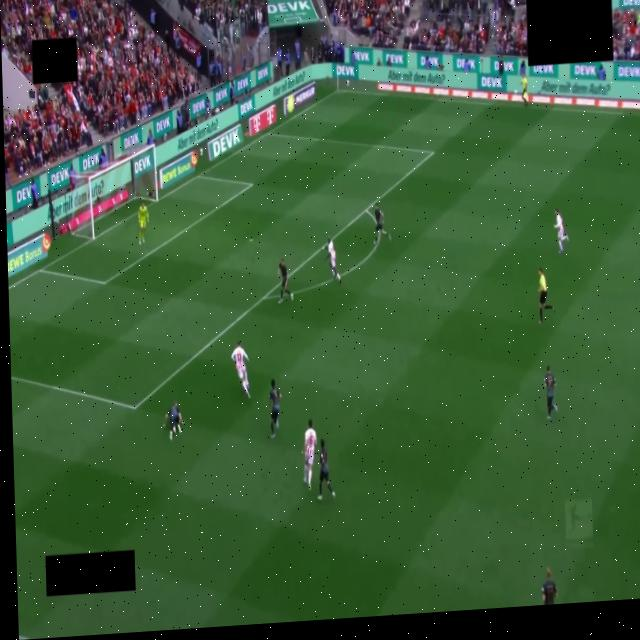player: (318, 439, 334, 500), (303, 420, 317, 489), (232, 343, 249, 397), (163, 401, 183, 439), (544, 365, 557, 419), (374, 203, 391, 244), (269, 380, 281, 438), (278, 259, 292, 303), (327, 238, 341, 282), (555, 208, 568, 253), (542, 569, 557, 604), (138, 202, 148, 245)
referee: (539, 269, 554, 324)
